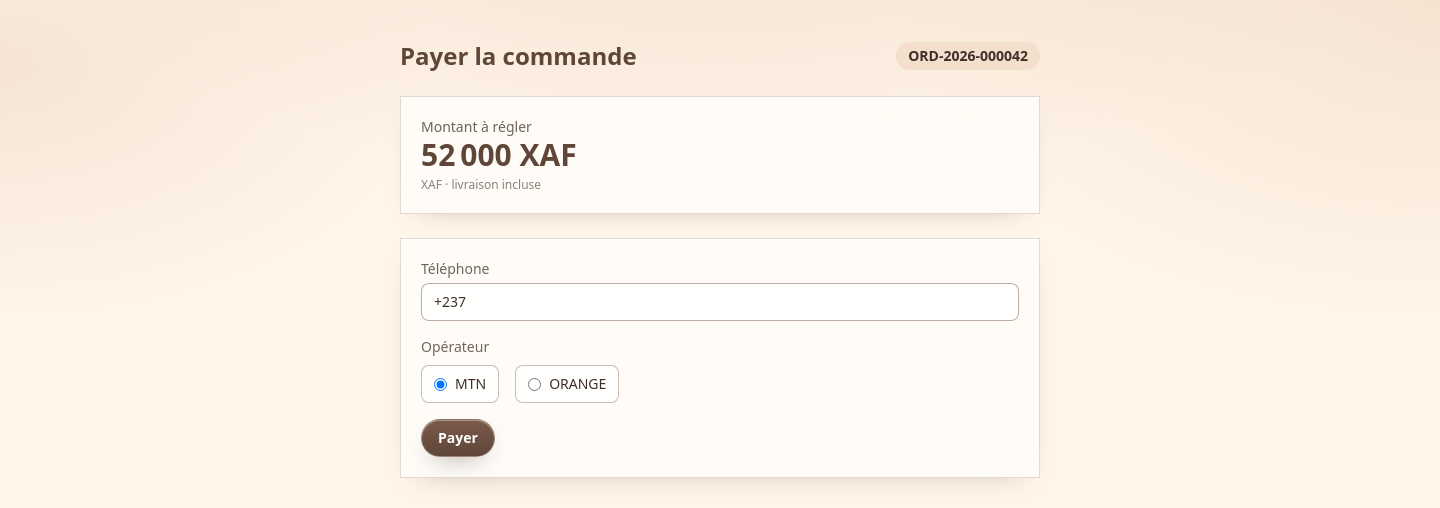
Test: /commandes/[ref]/paiement › initie le paiement avec le téléphone et l'opérateur choisis
Replace the text in the field labelled "Téléphone" with "+237690000002" at [720, 302], box x1=421 y1=283 x2=1019 y2=321
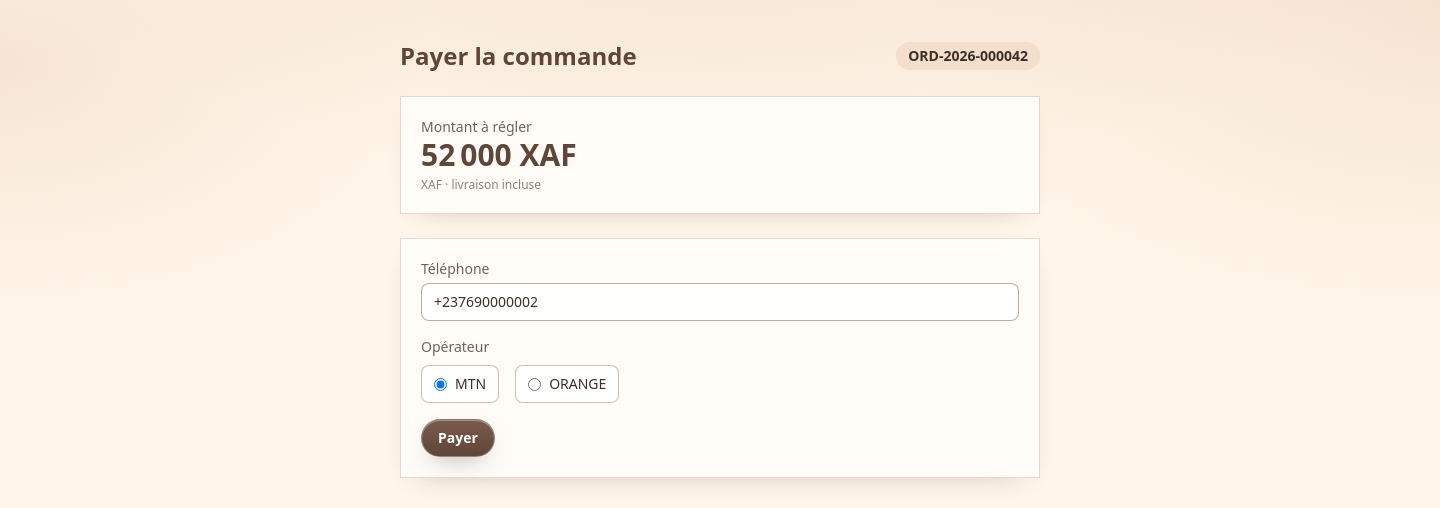
Click the radio button labelled "ORANGE" at [535, 384], box x1=528 y1=378 x2=541 y2=390
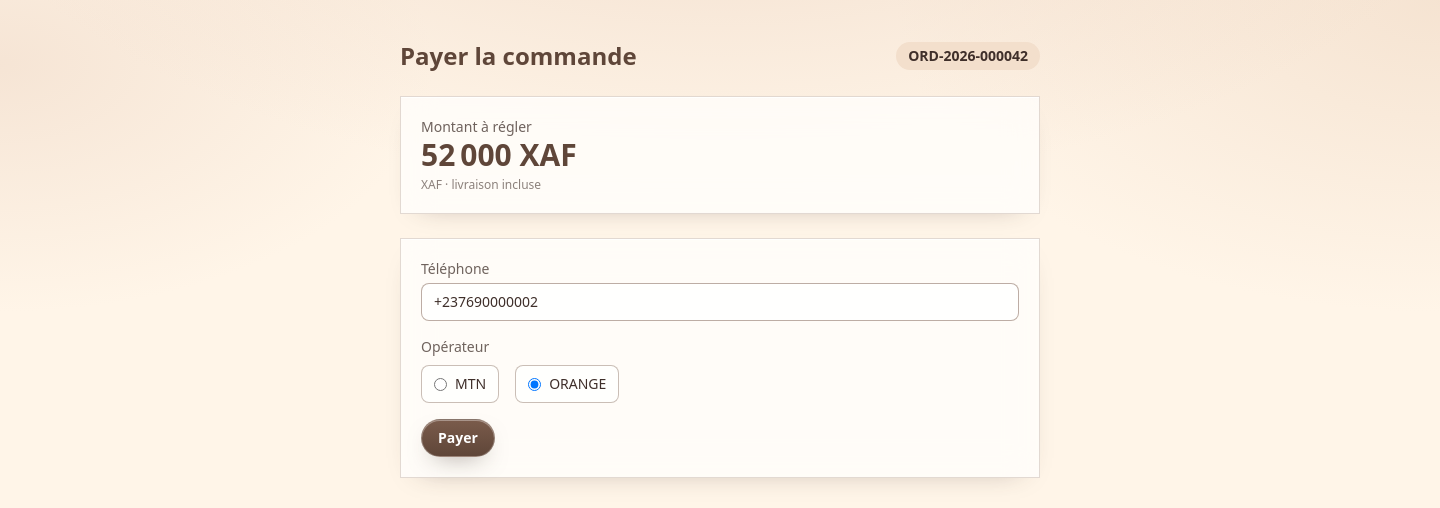
Click the button "Payer" at [458, 438], box x1=421 y1=419 x2=495 y2=457
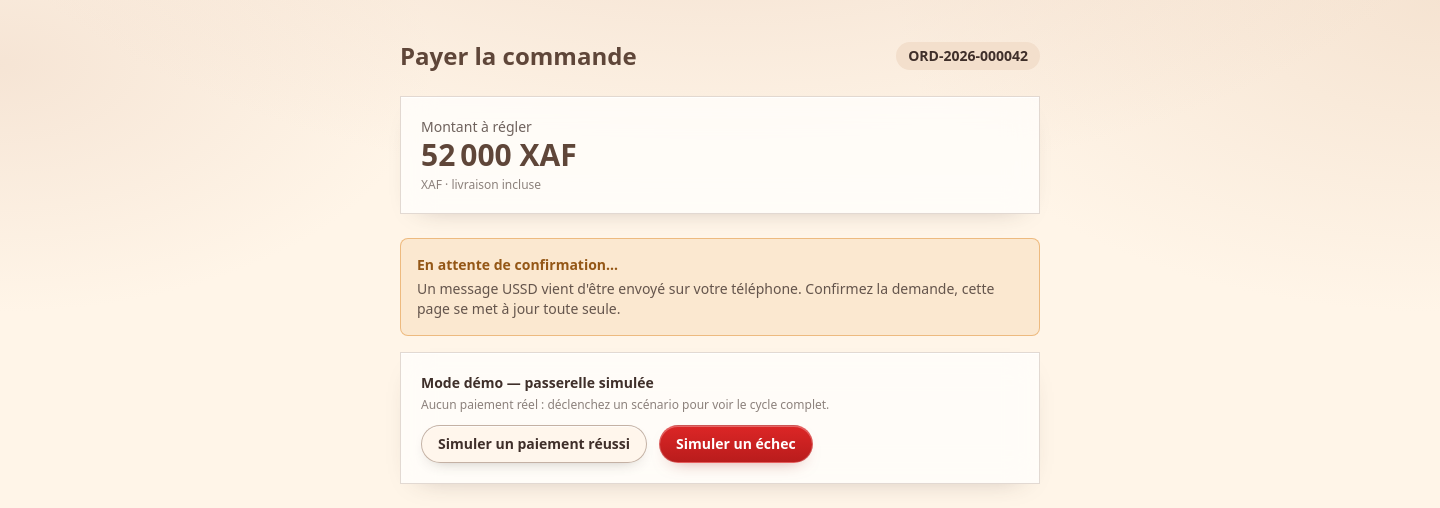
Check: the text "En attente de confirmation…" is shown, box x1=417 y1=255 x2=618 y2=274
